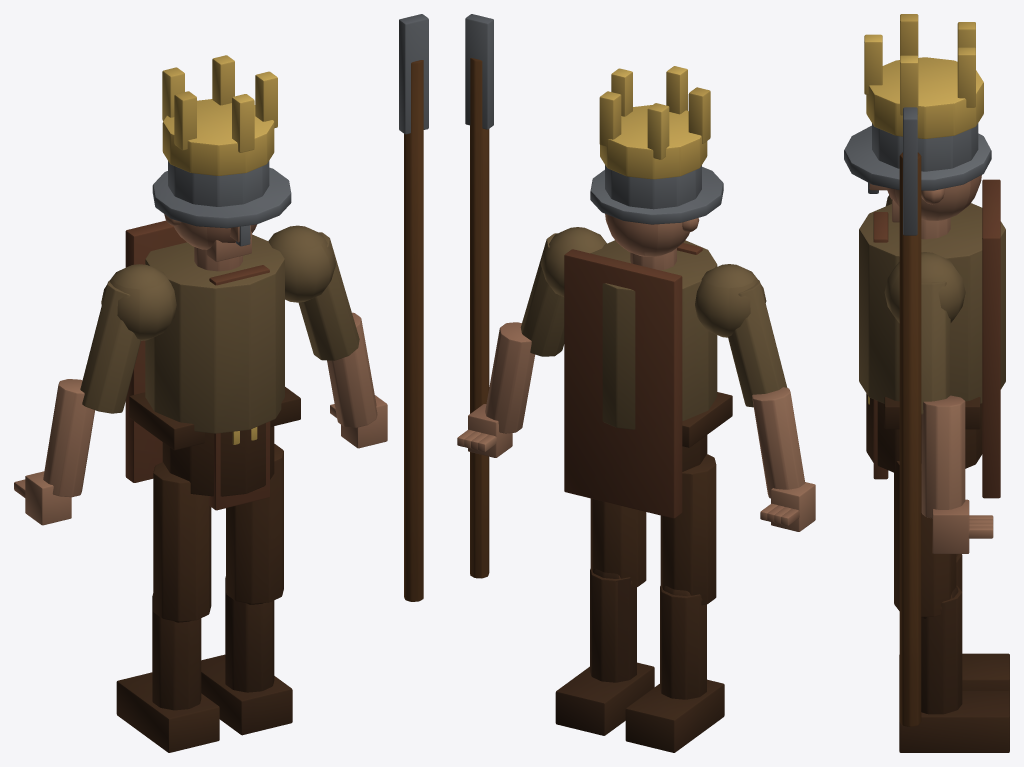
The model's file is unit_leader.fbx.
3 renders of one model, left to right at view 1: azimuth 30°, elevation 25°; view 2: azimuth 150°, elevation 25°; view 3: azimuth 270°, elevation 25°, orthographic. The views are drawn at different scales.
Parts seen in each view (by area): view 1: unit_leader; view 2: unit_leader; view 3: unit_leader.
Part boxes in pixels (x1=…): unit_leader: x1=14, y1=14, x2=428, y2=752; unit_leader: x1=457, y1=14, x2=815, y2=752; unit_leader: x1=844, y1=14, x2=1009, y2=752.
Size of the model in its own units: 1.23 by 2.11 by 0.45.
